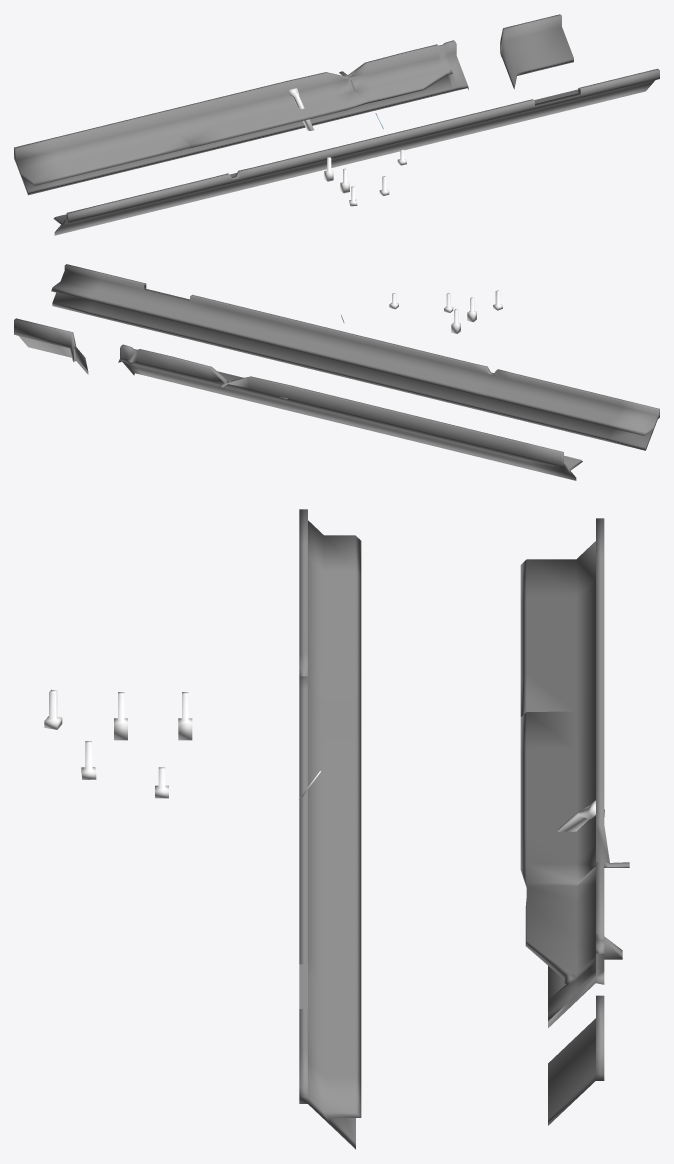
File: Represa.fbx
3 renders of one model, top to bottom at view 1: azimuth 30°, elevation 25°; view 2: azimuth 150°, elevation 25°; view 3: azimuth 270°, elevation 25°, orthographic. The views are drawn at different scales.
Visible parts, largest first — view 1: Decoração; view 2: Decoração; view 3: Decoração.
Boxes of the visible parts, x1,y1,x2,y2 form: Decoração: (14,14,659,235); Decoração: (14,264,659,480); Decoração: (44,509,629,1149).
Size of the model in its own units: 32408 by 3478 by 13896.
Materials: 1 (1 with a texture image).
